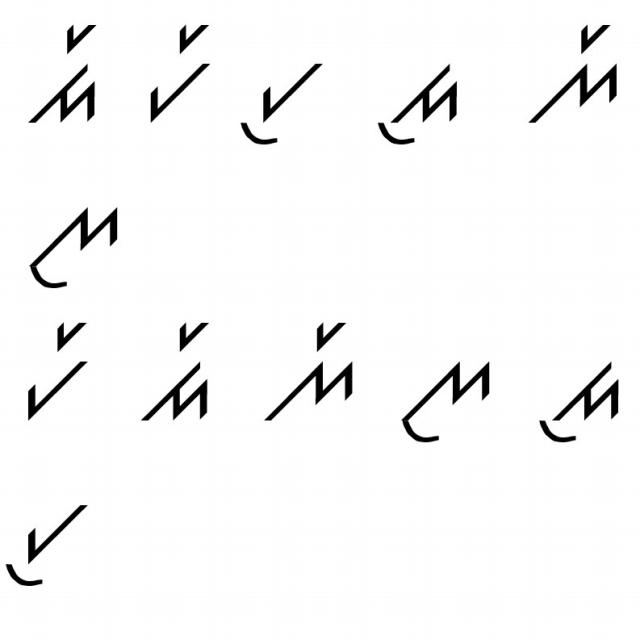dar: (134, 319, 215, 433), (28, 24, 108, 130)
daw: (368, 53, 472, 153), (535, 351, 626, 453)
nar: (251, 316, 367, 428), (531, 19, 624, 134)
naw: (23, 198, 131, 290), (397, 351, 496, 446)
par: (17, 314, 96, 424), (144, 20, 218, 126)
paw: (231, 45, 332, 151), (2, 494, 94, 600)
